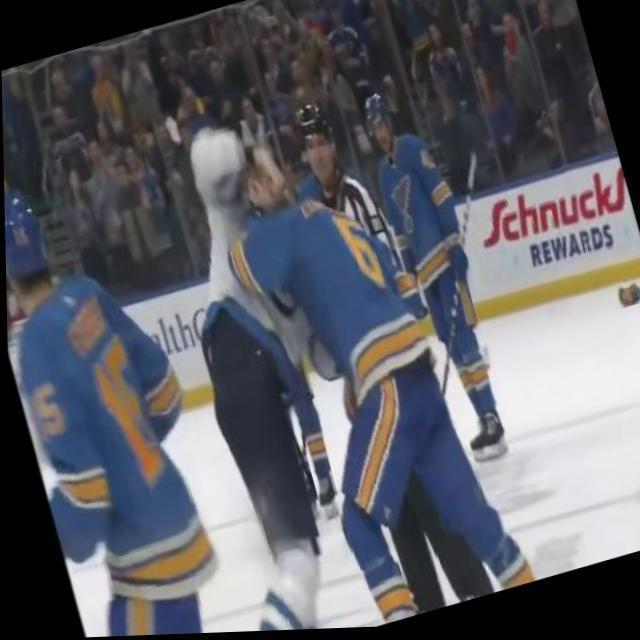fight: (144, 82, 473, 558)
